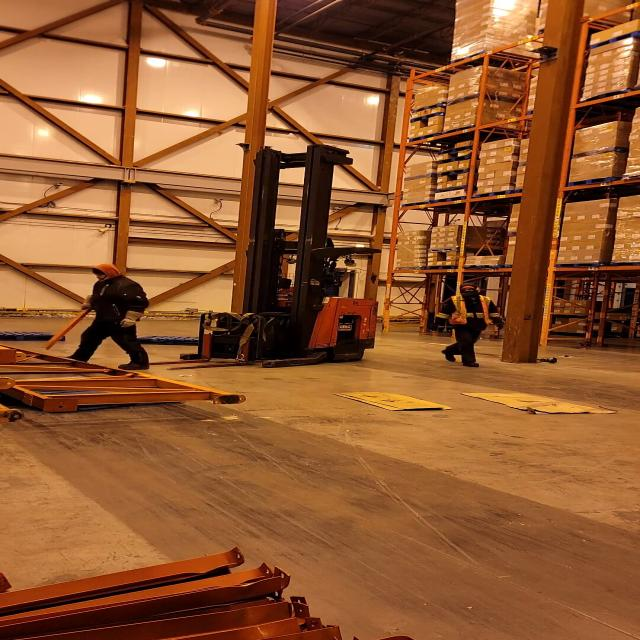forklift: (178, 152, 378, 370)
human: (45, 260, 161, 371), (431, 277, 507, 373)
objectofinterest: (0, 351, 248, 412), (454, 390, 621, 416), (327, 389, 452, 414), (121, 334, 211, 349), (3, 328, 75, 342)
